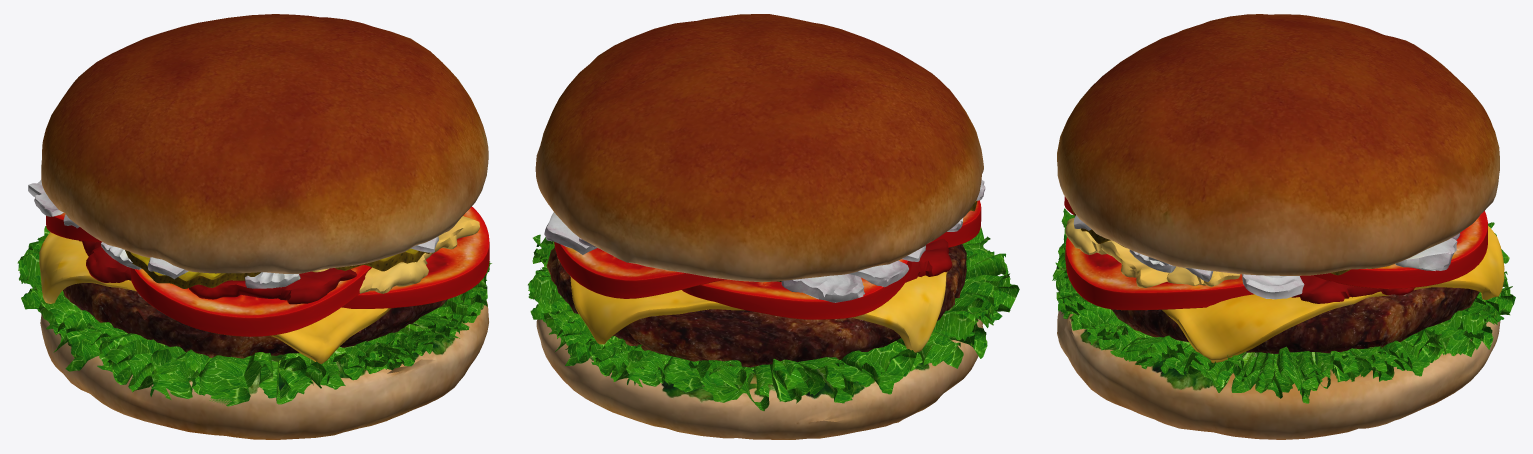
Rendered from food1.glb.
3 views of the same model, side by side, from view 1: azimuth 30°, elevation 25°; view 2: azimuth 150°, elevation 25°; view 3: azimuth 270°, elevation 25° (orthographic).
Parts seen in each view (by area): view 1: HAMBURGER_BREAD_0, HAMBURGER_INGREDIENTS_0, HAMBURGER_MEAT_0; view 2: HAMBURGER_BREAD_0, HAMBURGER_INGREDIENTS_0, HAMBURGER_MEAT_0; view 3: HAMBURGER_BREAD_0, HAMBURGER_INGREDIENTS_0, HAMBURGER_MEAT_0.
Boxes of the visible parts, <box> form: HAMBURGER_BREAD_0: <box>40,14,488,439</box>; HAMBURGER_INGREDIENTS_0: <box>17,180,491,406</box>; HAMBURGER_MEAT_0: <box>63,283,447,358</box>; HAMBURGER_BREAD_0: <box>535,14,983,439</box>; HAMBURGER_INGREDIENTS_0: <box>528,180,1019,410</box>; HAMBURGER_MEAT_0: <box>546,244,966,367</box>; HAMBURGER_BREAD_0: <box>1057,14,1500,439</box>; HAMBURGER_INGREDIENTS_0: <box>1052,196,1515,403</box>; HAMBURGER_MEAT_0: <box>1111,287,1479,353</box>.
Bounding box in the file's own units: 0.0895 × 0.0623 × 0.085.
Materials: 3 (3 with a texture image).
